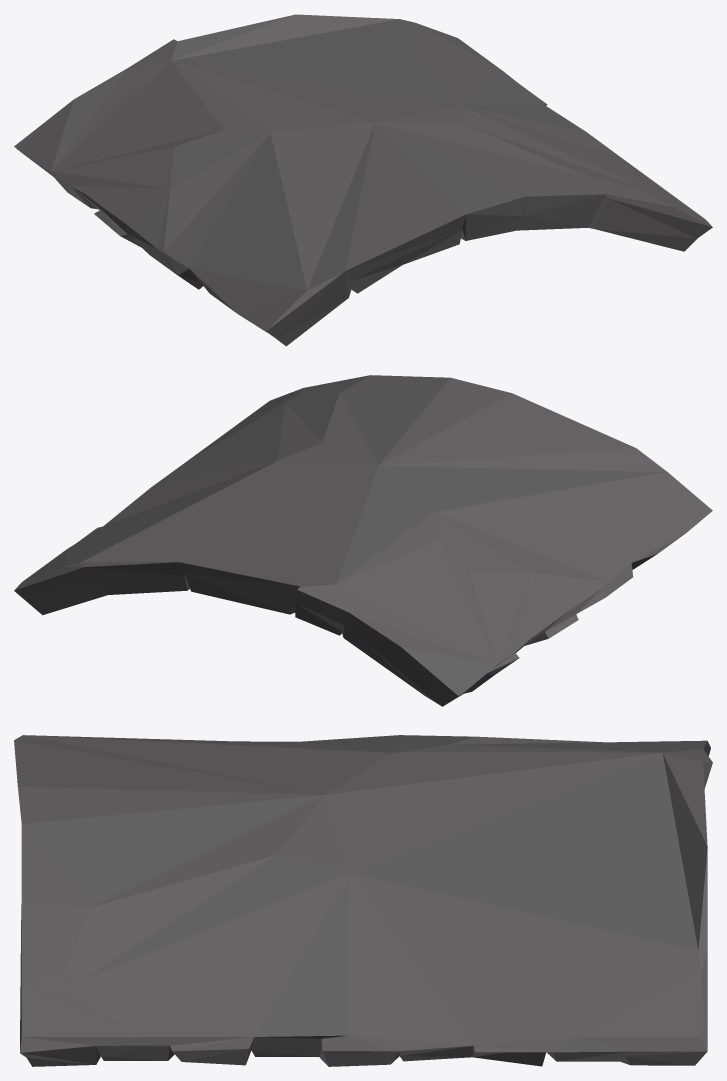
The model's file is SM_Env_Wall_Curved_Roof_01.FBX.
3 views of the same model, one above another, from view 1: azimuth 30°, elevation 25°; view 2: azimuth 150°, elevation 25°; view 3: azimuth 270°, elevation 25° (orthographic). The views are drawn at different scales.
Parts seen in each view (by area): view 1: SM_Env_Wall_Curved_Roof_01; view 2: SM_Env_Wall_Curved_Roof_01; view 3: SM_Env_Wall_Curved_Roof_01.
Boxes of the visible parts, x1,y1,x2,y2 form: SM_Env_Wall_Curved_Roof_01: (14, 14, 712, 346); SM_Env_Wall_Curved_Roof_01: (14, 375, 712, 706); SM_Env_Wall_Curved_Roof_01: (14, 735, 712, 1066).
Size of what is drawn, in the model's own units: 539 by 524 by 114.
